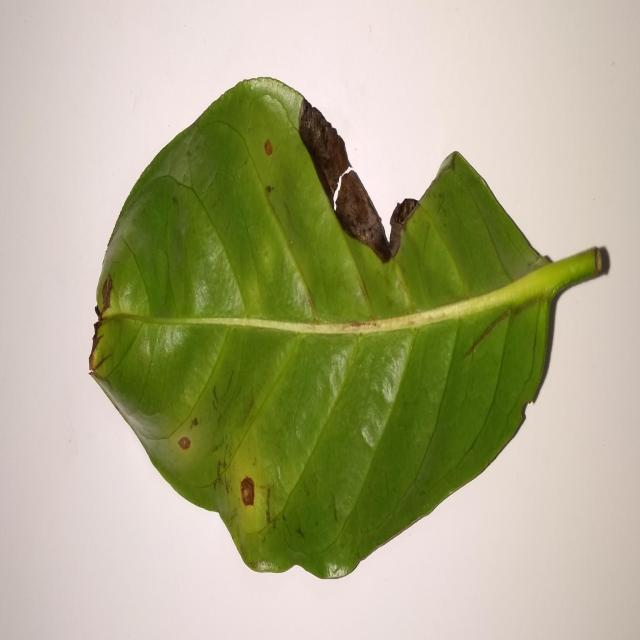Enfermedad-Antracnosis: (88, 78, 612, 584)
